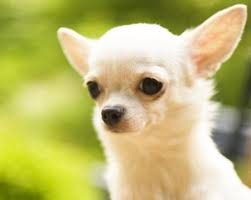chihuahua: (53, 4, 250, 180)
